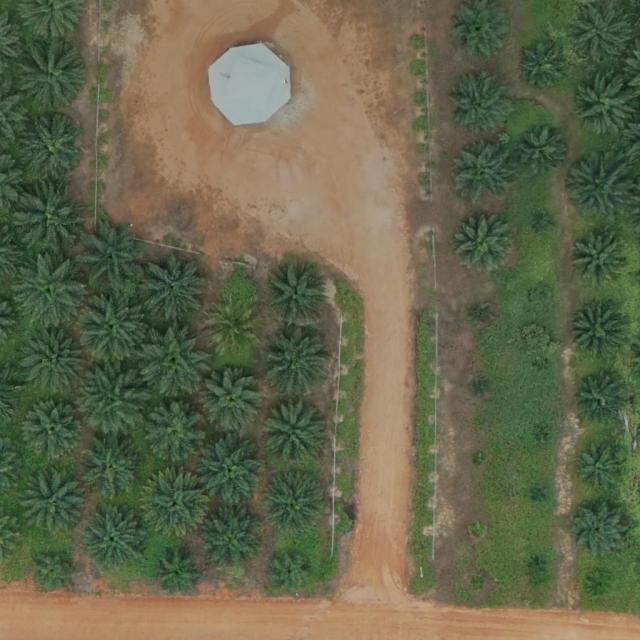Healthy: (564, 153, 635, 224), (140, 327, 211, 398), (16, 44, 87, 114), (564, 495, 634, 566), (264, 326, 334, 397), (196, 435, 267, 505), (142, 255, 212, 326), (78, 224, 148, 295), (78, 290, 148, 361), (17, 186, 87, 257), (142, 473, 212, 543), (76, 368, 146, 438), (16, 257, 86, 327), (447, 73, 510, 136), (574, 5, 637, 68), (452, 142, 515, 205), (200, 509, 263, 572), (22, 330, 85, 393), (22, 118, 85, 180), (575, 76, 638, 138), (451, 209, 513, 272), (265, 264, 327, 327), (265, 472, 327, 535), (144, 403, 207, 465), (81, 441, 143, 504), (84, 508, 146, 571), (23, 401, 85, 464), (23, 469, 85, 532), (262, 401, 324, 463), (203, 372, 265, 434), (574, 230, 629, 285), (574, 373, 629, 428), (515, 123, 570, 178), (570, 306, 624, 361), (520, 43, 567, 90), (155, 552, 202, 599)
Small: (576, 440, 631, 495), (269, 548, 316, 596), (32, 549, 79, 596), (531, 287, 555, 311), (589, 572, 613, 596), (539, 215, 555, 231), (474, 309, 490, 325), (471, 576, 487, 592), (529, 556, 545, 572), (537, 359, 552, 375), (474, 380, 490, 395), (469, 524, 485, 539), (534, 487, 549, 503), (533, 432, 548, 447), (472, 454, 487, 469)
Yellow: (206, 303, 261, 358)
